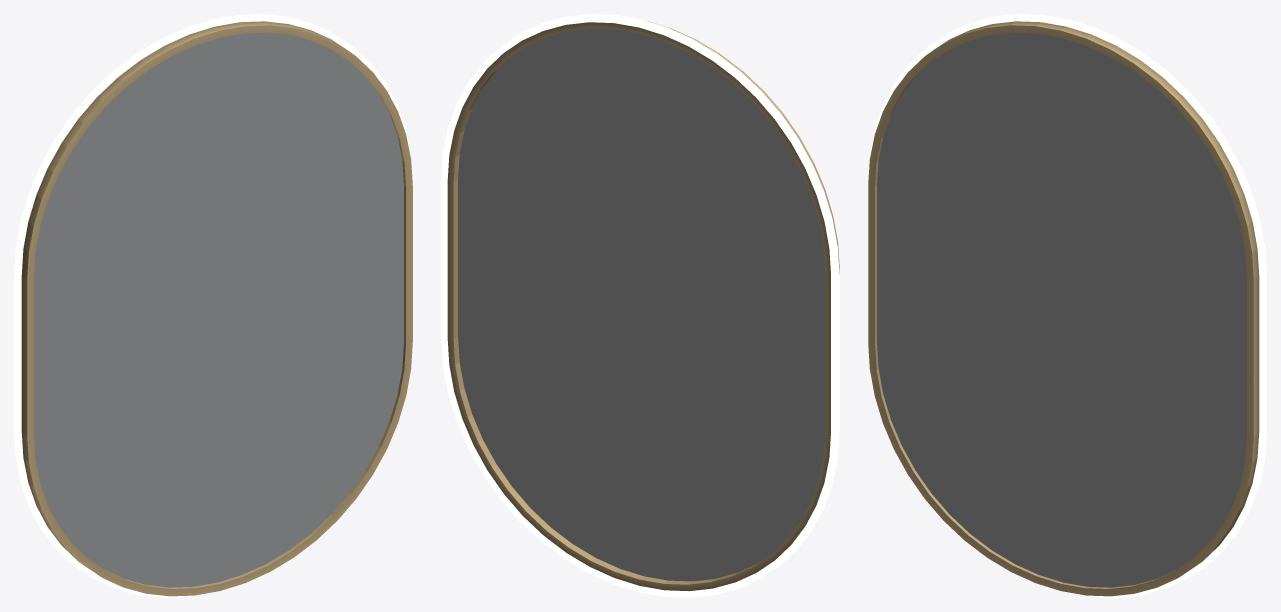
The model's file is bath_mirror.gltf.
3 renders of one model, left to right at view 1: azimuth 30°, elevation 25°; view 2: azimuth 150°, elevation 25°; view 3: azimuth 330°, elevation 25°, orthographic.
Parts seen in each view (by area): view 1: BathMirror_Glass, BathMirror_Frame, BathMirror_Halo; view 2: BathMirror_Glass, BathMirror_Frame, BathMirror_Halo; view 3: BathMirror_Glass, BathMirror_Frame, BathMirror_Halo.
Boxes of the visible parts, bbox=[...] form: BathMirror_Glass: bbox=[34, 32, 403, 587]; BathMirror_Frame: bbox=[21, 21, 412, 596]; BathMirror_Halo: bbox=[14, 14, 412, 597]; BathMirror_Glass: bbox=[458, 28, 825, 581]; BathMirror_Frame: bbox=[447, 20, 839, 591]; BathMirror_Halo: bbox=[441, 14, 839, 597]; BathMirror_Glass: bbox=[877, 32, 1246, 587]; BathMirror_Frame: bbox=[868, 21, 1259, 596]; BathMirror_Halo: bbox=[868, 14, 1266, 597].
Bounding box in the file's own units: 0.924 × 1.27 × 0.032.
